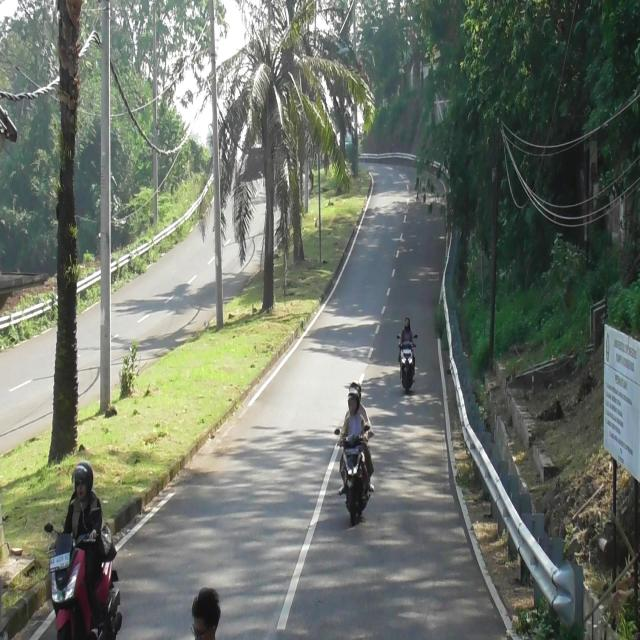motorcycle: (44, 518, 124, 640), (338, 426, 371, 524), (397, 333, 419, 394)
person: (50, 470, 106, 640), (340, 382, 376, 494), (338, 392, 372, 492), (398, 318, 416, 356)
rider_region: (48, 459, 125, 640), (334, 377, 376, 526), (394, 316, 419, 390)
